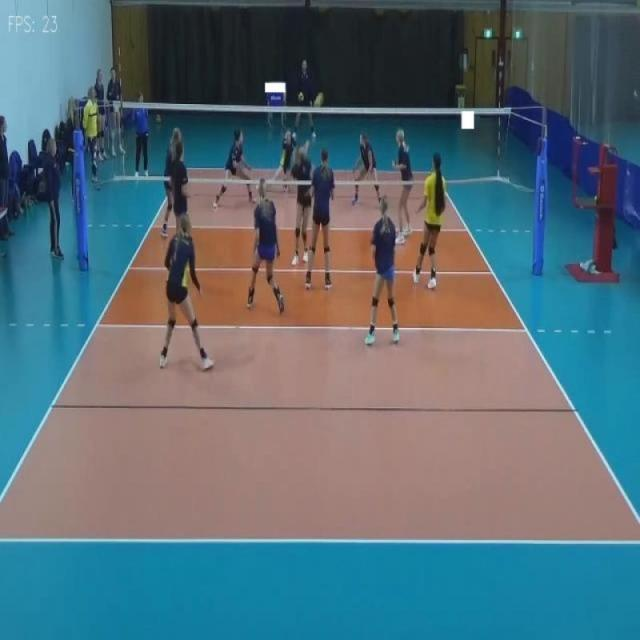volleyball: (313, 90, 325, 108), (155, 113, 162, 124), (298, 92, 304, 102)
